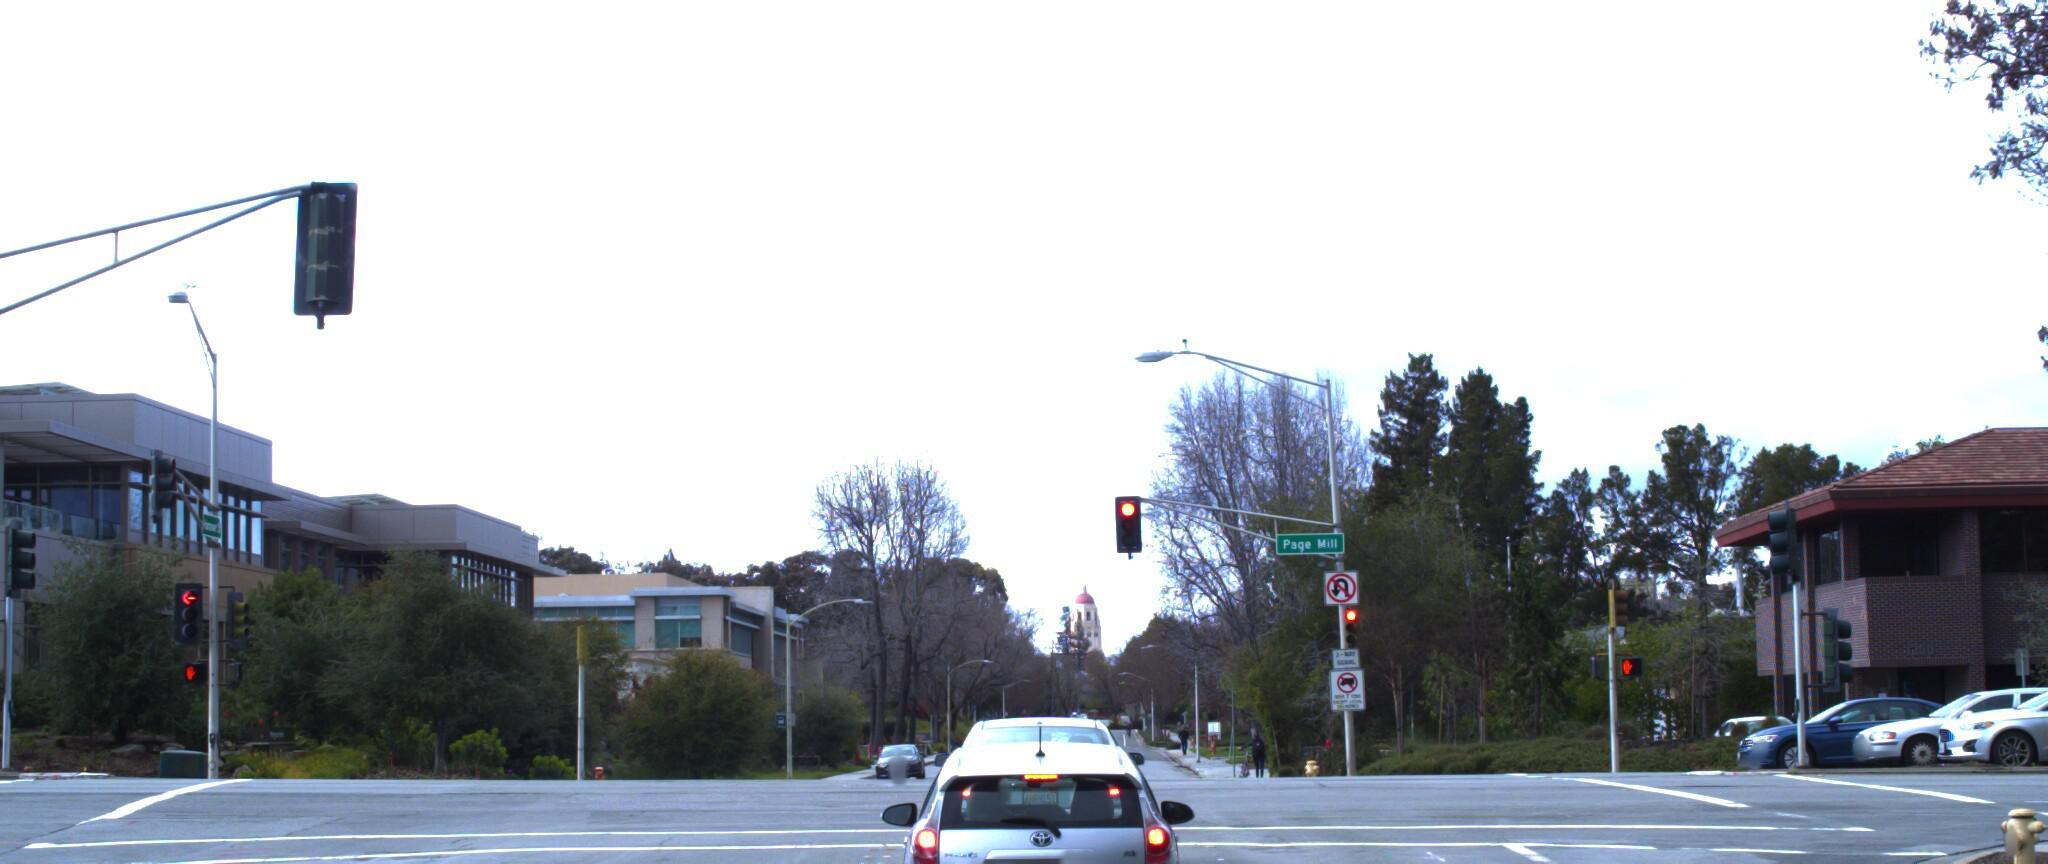car: (879, 713, 1219, 864), (927, 705, 1165, 864), (1701, 684, 2011, 782), (1819, 668, 2048, 773), (1910, 647, 2048, 777)
